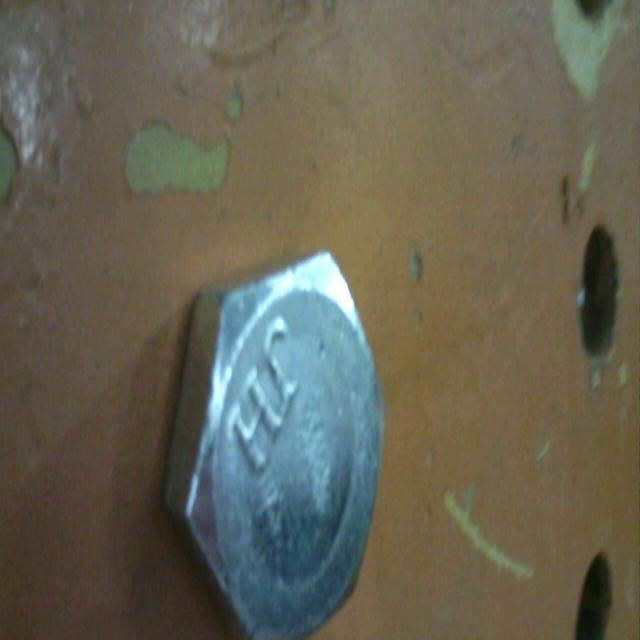Missing bolt: (577, 225, 624, 358), (573, 544, 619, 640)
Regular bolt: (157, 246, 391, 640)
